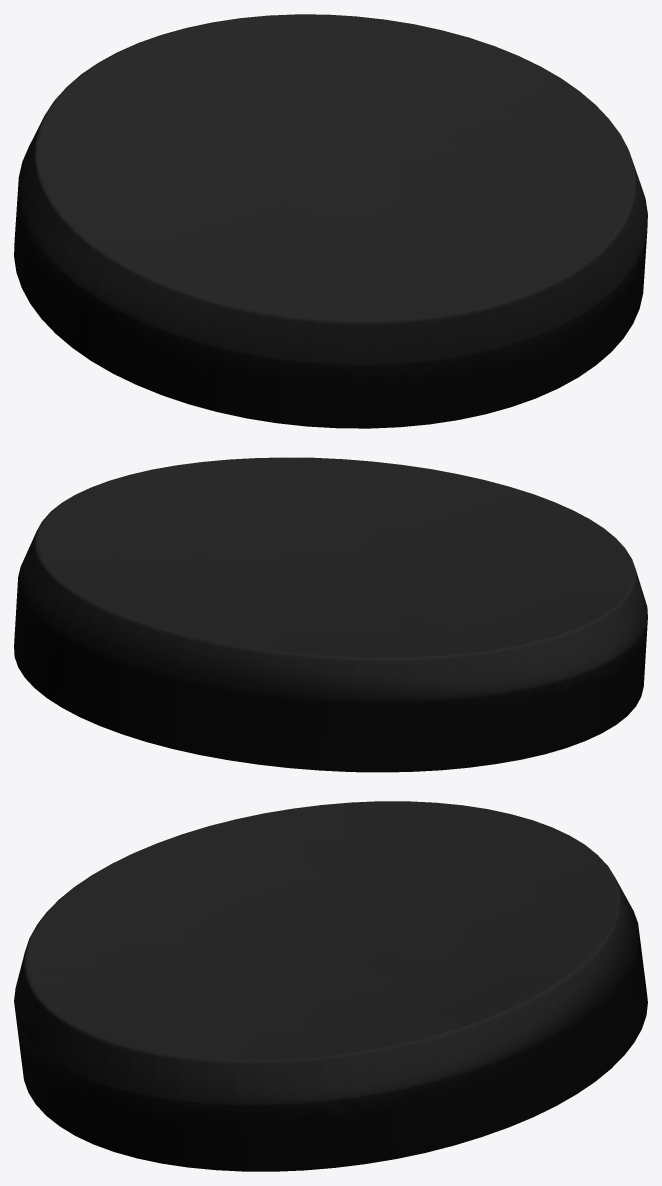
File: trackpad0.obj
3 renders of one model, top to bottom at view 1: azimuth 30°, elevation 25°; view 2: azimuth 150°, elevation 25°; view 3: azimuth 270°, elevation 25°, orthographic.
Size of the model in its own units: 0.0428 by 0.0125 by 0.0431.
Materials: 1 (1 with a texture image).
